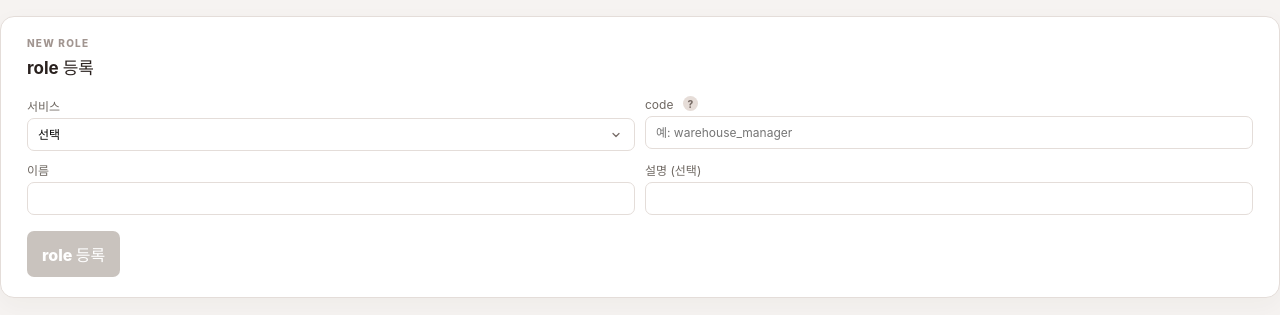
Test: RoleCreateForm › code 규칙은 항상 보이는 문장 대신 code 옆 배지의 툴팁으로 안내한다
Hover over the picture named "code 입력 규칙".
mouse_move(690, 104)  # box [683,96,698,111]
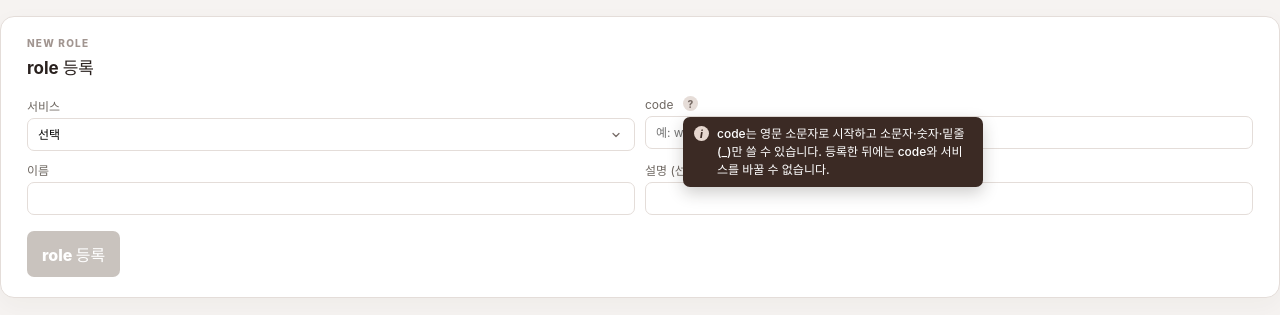
Check: the tooltip reads "code는 영문 소문자로 시작하고 소문자·숫자·밑줄(_)만 쓸 수 있습니다. 등록한 뒤에는 code와 서비스를 바꿀 수 없습니다.", box [717,126,964,177]
